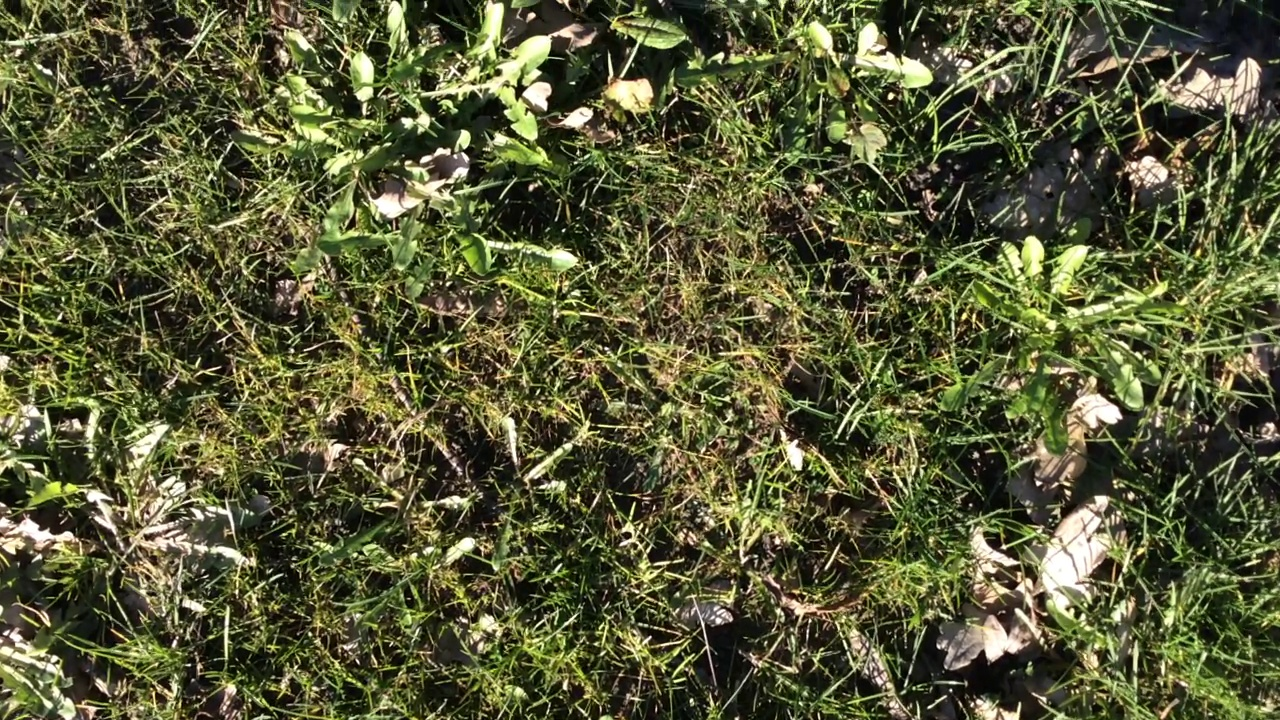rumex: (610, 12, 690, 52)
